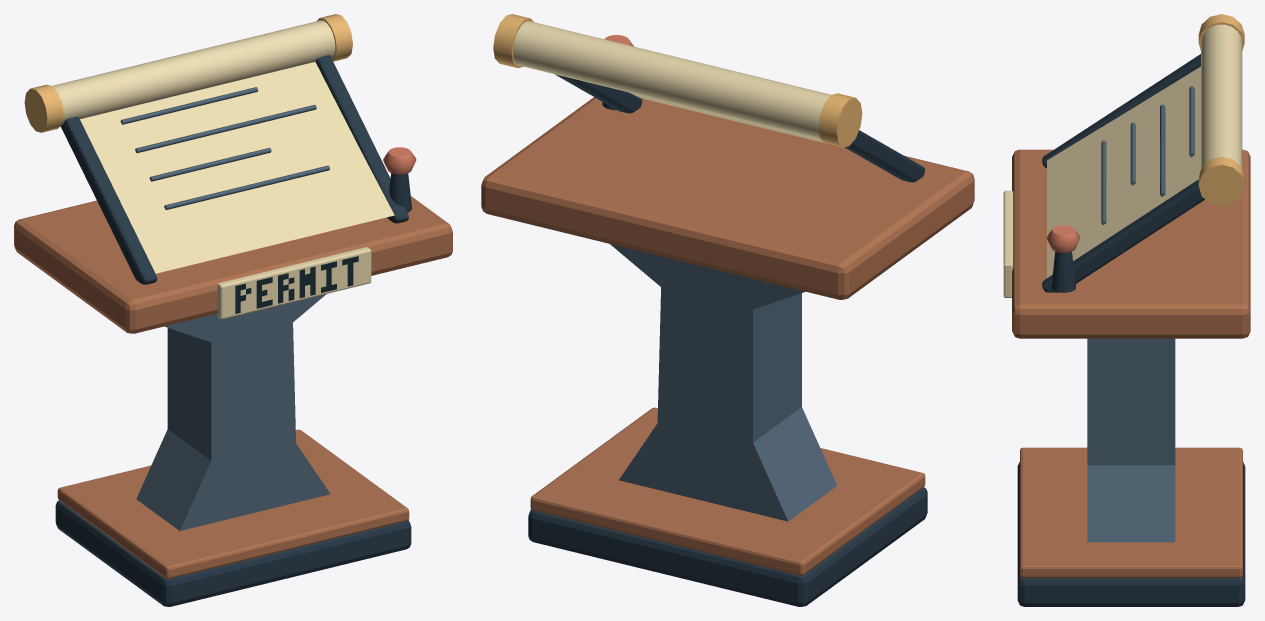
The picture shows the model from 3 angles, left to right: view 1: azimuth 30°, elevation 25°; view 2: azimuth 150°, elevation 25°; view 3: azimuth 270°, elevation 25°; orthographic projection. The views are drawn at different scales.
Visible parts, largest first — view 1: PR108 enamel and hardware; view 2: PR108 enamel and hardware; view 3: PR108 enamel and hardware.
Boxes of the visible parts, box(x1,y1,x2,y2) form: PR108 enamel and hardware: box(14, 14, 452, 606); PR108 enamel and hardware: box(481, 14, 974, 606); PR108 enamel and hardware: box(1003, 14, 1250, 606).
Size of the model in its own units: 0.942 by 1.25 by 0.6105.
